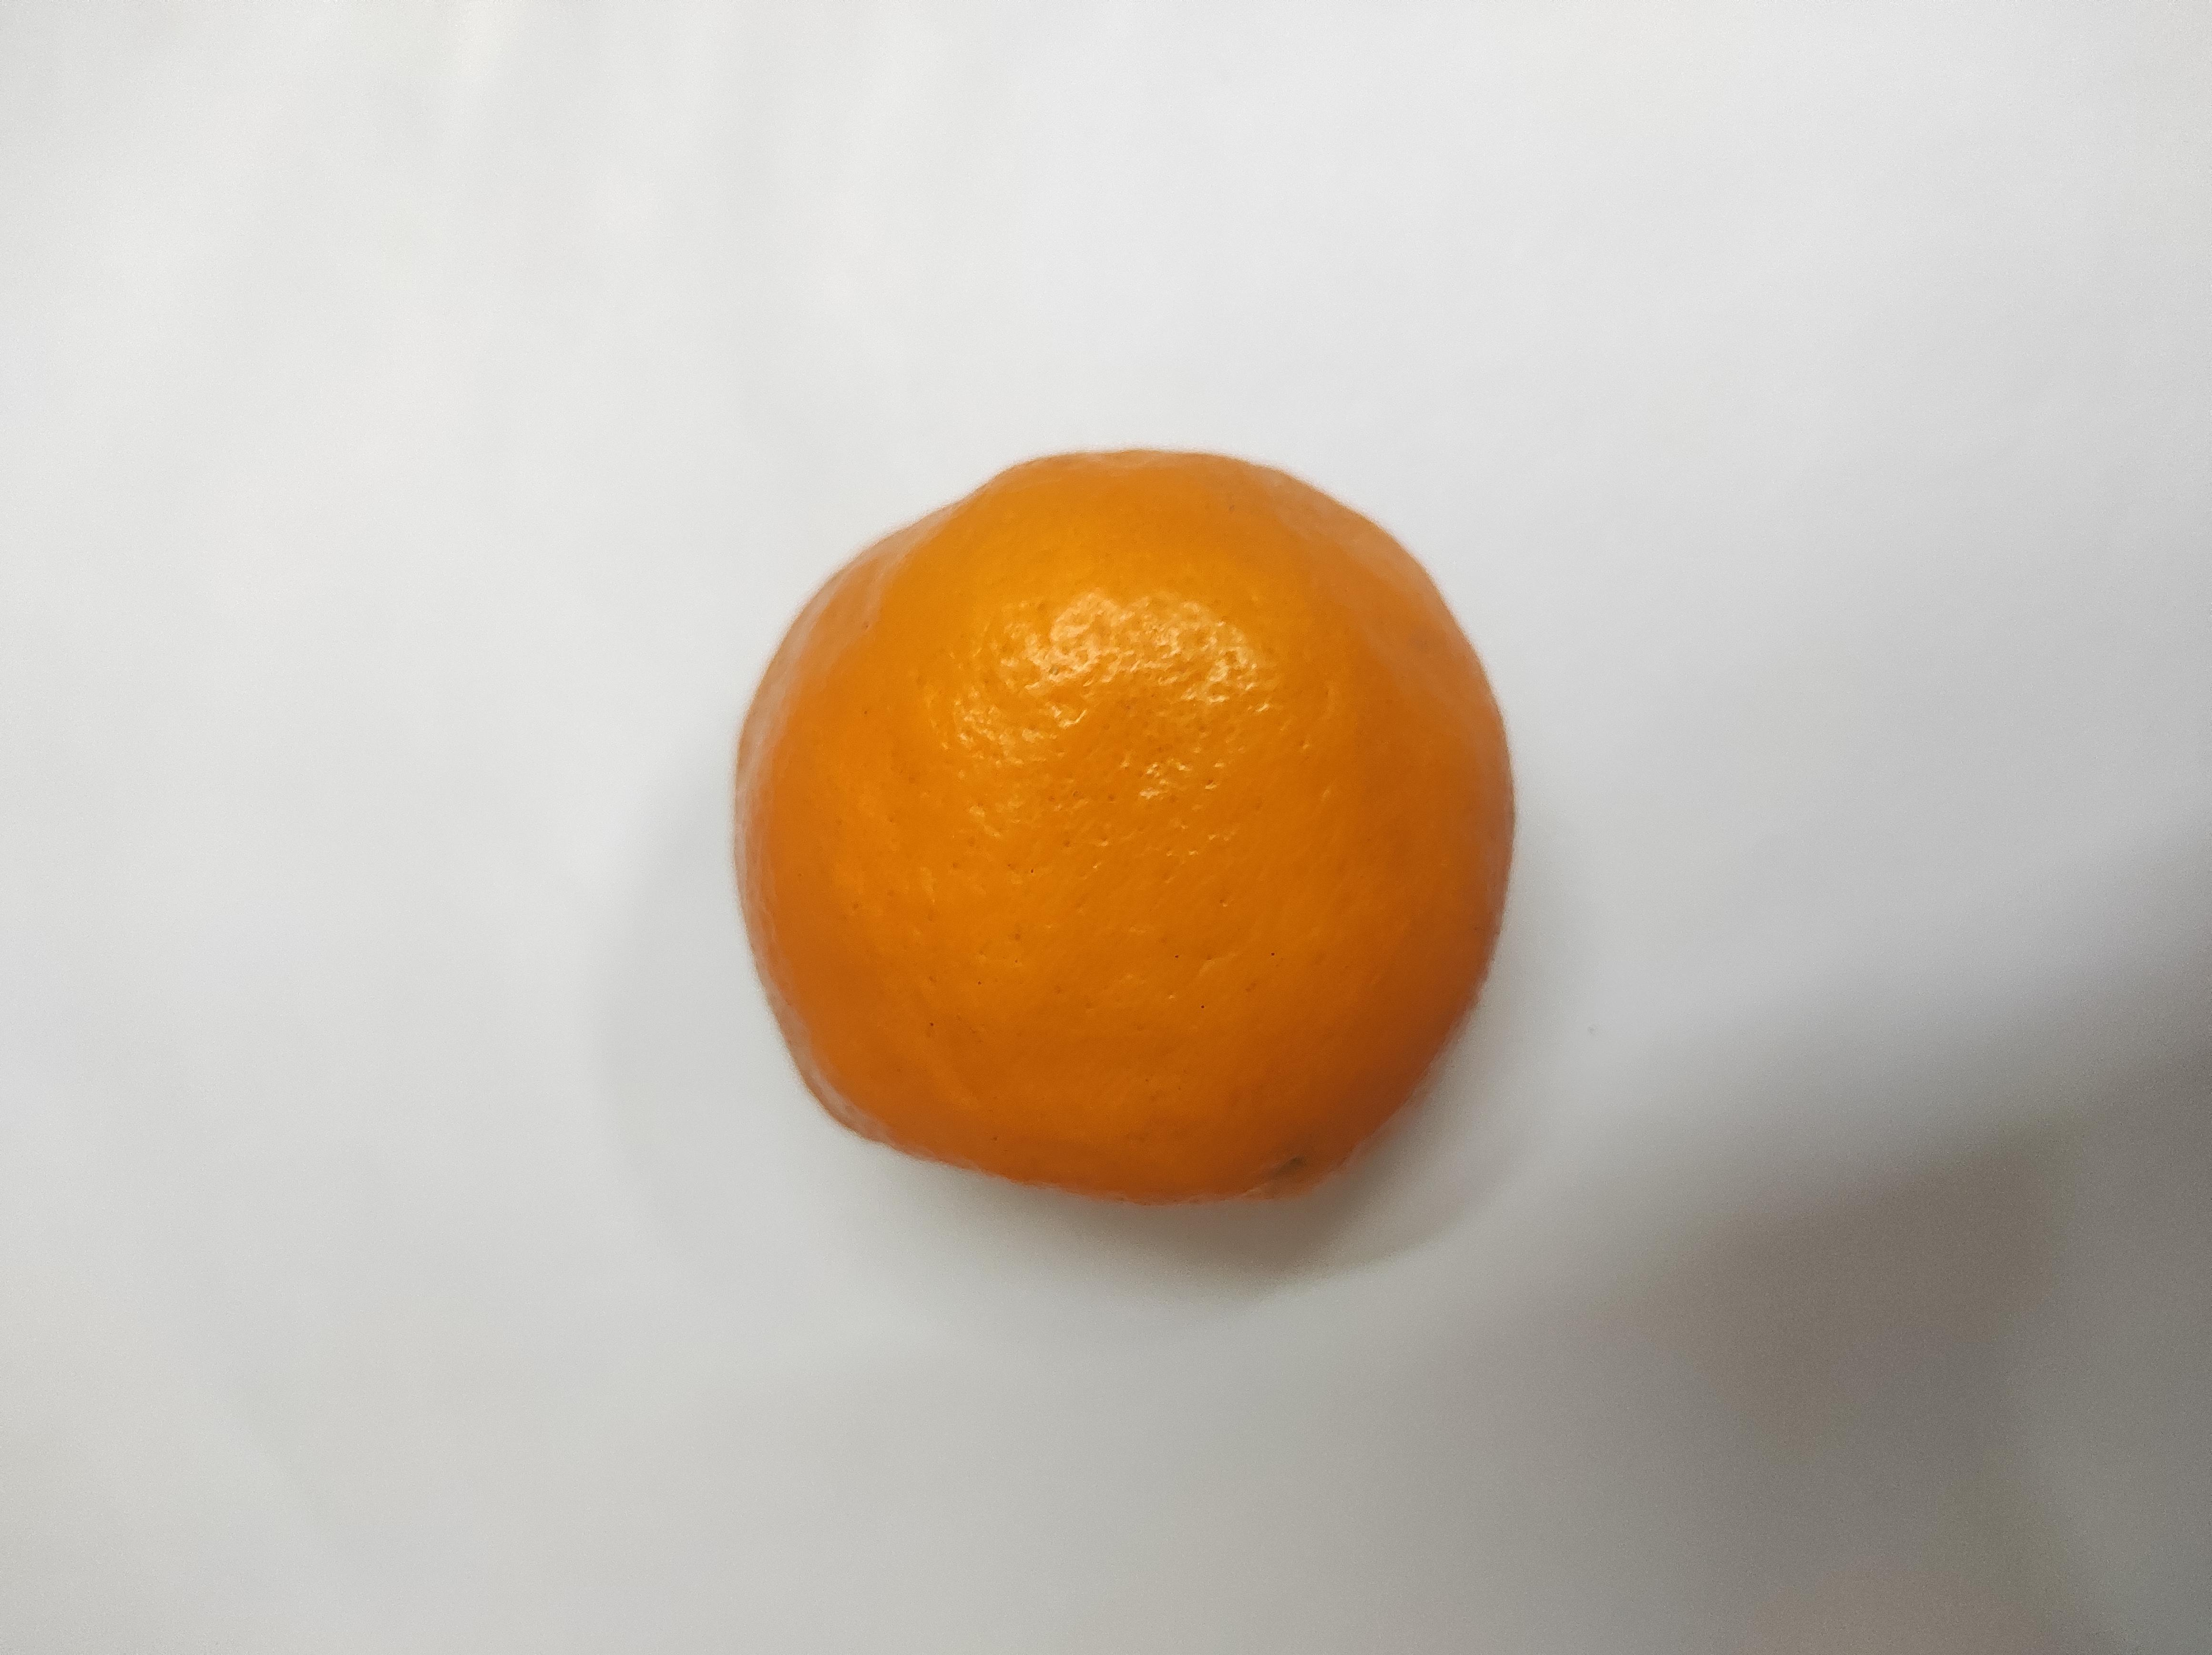Ripe: (612, 553, 1619, 1130)
